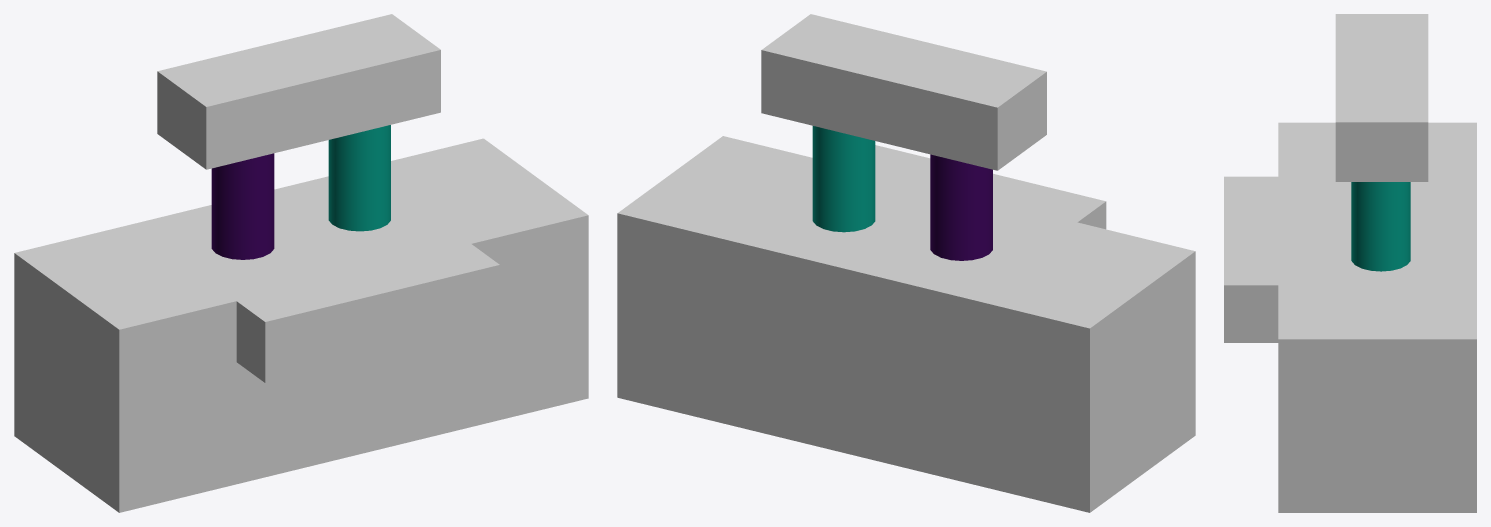
File: taula2.FBX
3 renders of one model, left to right at view 1: azimuth 30°, elevation 25°; view 2: azimuth 150°, elevation 25°; view 3: azimuth 270°, elevation 25°, orthographic. The views are drawn at different scales.
Visible parts, largest first — view 1: Box007, Cylinder005, Cylinder006; view 2: Box007, Cylinder006, Cylinder005; view 3: Box007, Cylinder006.
Boxes of the visible parts, left/top/right/bottom form: Box007: left=14, top=14, right=588, bottom=512; Cylinder005: left=211, top=153, right=274, bottom=259; Cylinder006: left=328, top=125, right=390, bottom=231; Box007: left=617, top=14, right=1195, bottom=512; Cylinder006: left=812, top=126, right=875, bottom=232; Cylinder005: left=930, top=154, right=992, bottom=260; Box007: left=1224, top=14, right=1476, bottom=512; Cylinder006: left=1351, top=182, right=1410, bottom=271.
Size of the model in its own units: 104 by 75.18 by 51.25.
